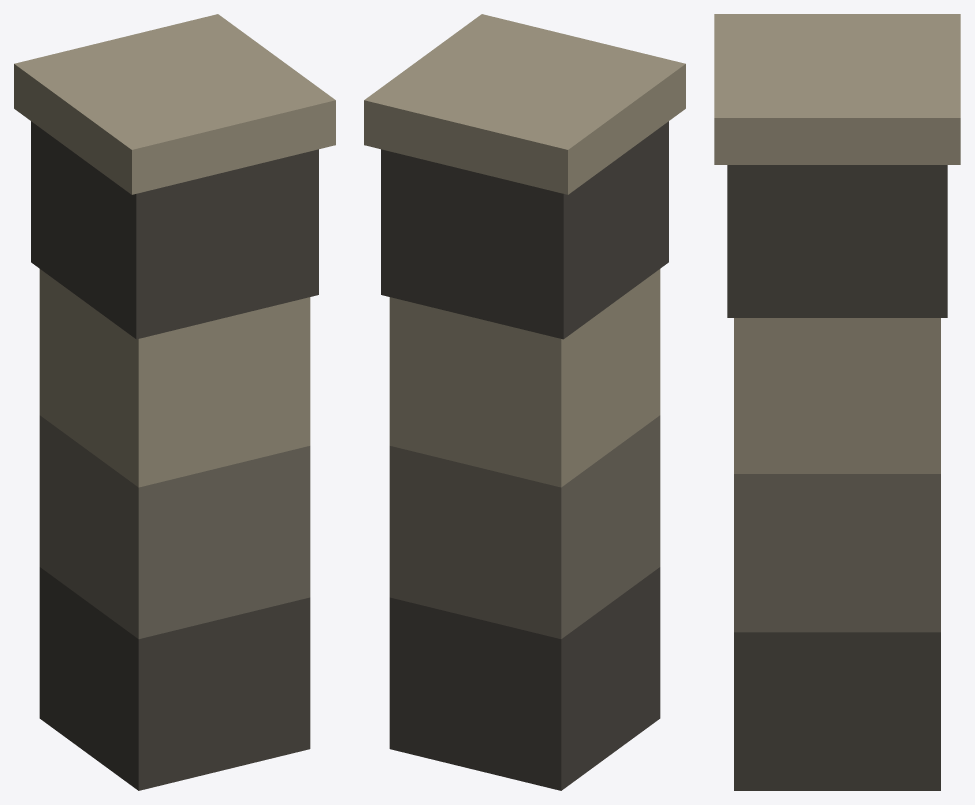
The model's file is TW_STONE_END_CAP_B_LOD0.glb.
3 views of the same model, side by side, from view 1: azimuth 30°, elevation 25°; view 2: azimuth 150°, elevation 25°; view 3: azimuth 270°, elevation 25° (orthographic). The views are drawn at different scales.
Visible parts, largest first — view 1: TW_STONE_END_CAP_B_LOD0; view 2: TW_STONE_END_CAP_B_LOD0; view 3: TW_STONE_END_CAP_B_LOD0.
Part boxes in pixels (x1,y1,x2,y2): TW_STONE_END_CAP_B_LOD0: (14, 14, 335, 790); TW_STONE_END_CAP_B_LOD0: (364, 14, 685, 790); TW_STONE_END_CAP_B_LOD0: (714, 14, 960, 790).
Size of the model in its own units: 0.38 by 1.16 by 0.38.
Materials: 1 (1 with a texture image).
